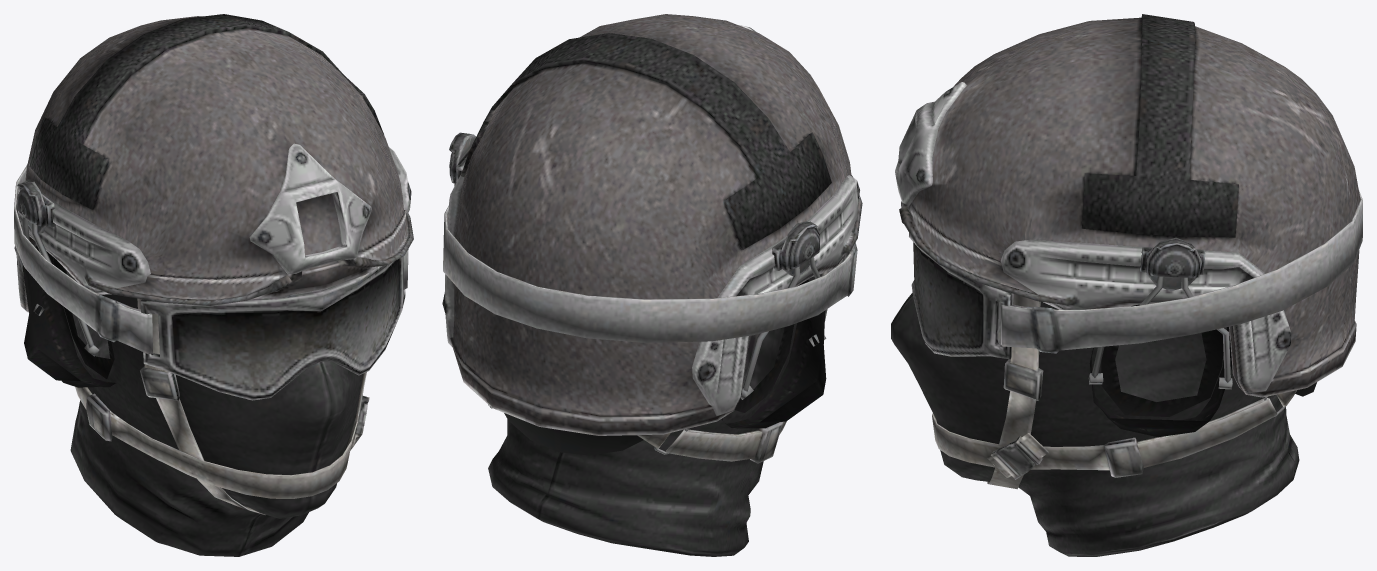
The model's file is SurvivorMale_Head_Helmet_ParaMilitaryFull_LOD0.glb.
The picture shows the model from 3 angles, left to right: view 1: azimuth 30°, elevation 25°; view 2: azimuth 150°, elevation 25°; view 3: azimuth 270°, elevation 25°; orthographic projection. The views are drawn at different scales.
Parts seen in each view (by area): view 1: Hoodie; view 2: Hoodie; view 3: Hoodie.
Boxes of the visible parts, x1=… form: Hoodie: x1=14, y1=14, x2=413, y2=556; Hoodie: x1=442, y1=14, x2=862, y2=556; Hoodie: x1=891, y1=14, x2=1362, y2=556.
Size of the model in its own units: 0.2208 by 0.3052 by 0.2543.
Materials: 1 (1 with a texture image).
